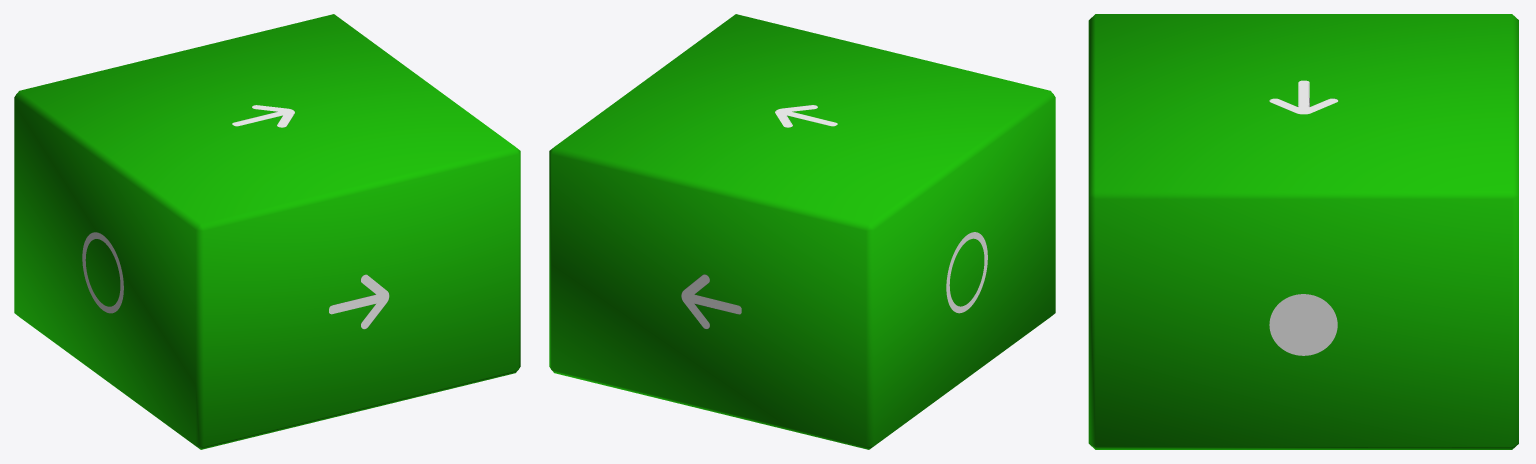
The model's file is BigBoxTapFlowBox_3_2_3_Clean_test2.fbx.
3 views of the same model, side by side, from view 1: azimuth 30°, elevation 25°; view 2: azimuth 150°, elevation 25°; view 3: azimuth 270°, elevation 25° (orthographic). The views are drawn at different scales.
Parts seen in each view (by area): view 1: BigBoxTapFlowBox_3_2_3_Clean_test; view 2: BigBoxTapFlowBox_3_2_3_Clean_test; view 3: BigBoxTapFlowBox_3_2_3_Clean_test.
Boxes of the visible parts, x1,y1,x2,y2 form: BigBoxTapFlowBox_3_2_3_Clean_test: [14, 14, 520, 449]; BigBoxTapFlowBox_3_2_3_Clean_test: [549, 14, 1055, 449]; BigBoxTapFlowBox_3_2_3_Clean_test: [1088, 14, 1518, 449].
Size of the model in its own units: 3.18 by 2.14 by 3.19.
